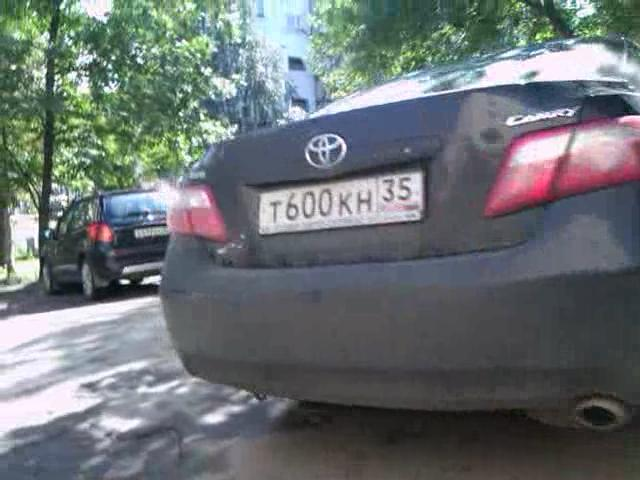car license plate: (257, 167, 428, 235), (132, 224, 170, 240)
